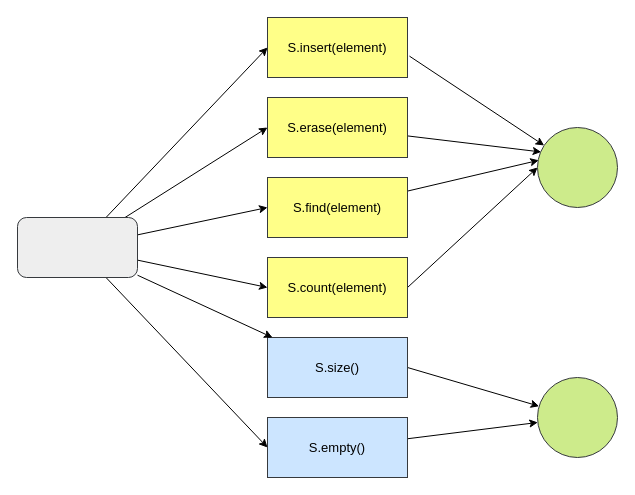
Image size: 635x495. Some labels were removed from this diagram. Each missing label, with the centre of its shape:
"O(1)" belongs at point (577, 417).
"O(log n)" belongs at point (577, 167).
"set" belongs at point (77, 247).
